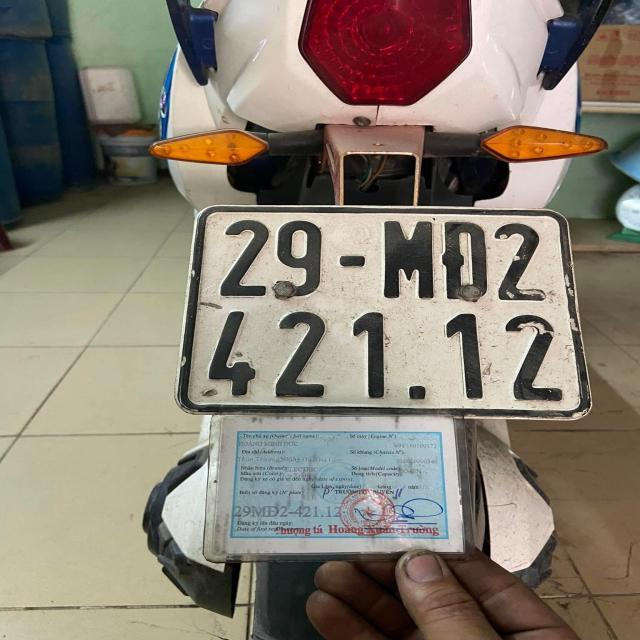1: (440, 311, 490, 402), (346, 308, 392, 399)
2: (502, 313, 566, 402), (271, 308, 329, 399), (490, 220, 550, 301), (216, 217, 270, 298)
4: (202, 308, 258, 400)
9: (272, 217, 324, 300)
D: (436, 215, 492, 303)
M: (376, 215, 438, 302)
